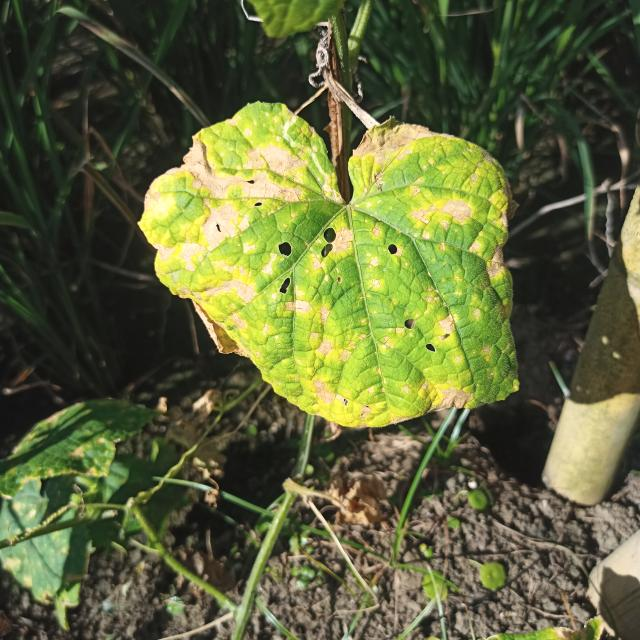disease_cucumber: (144, 105, 520, 430)
